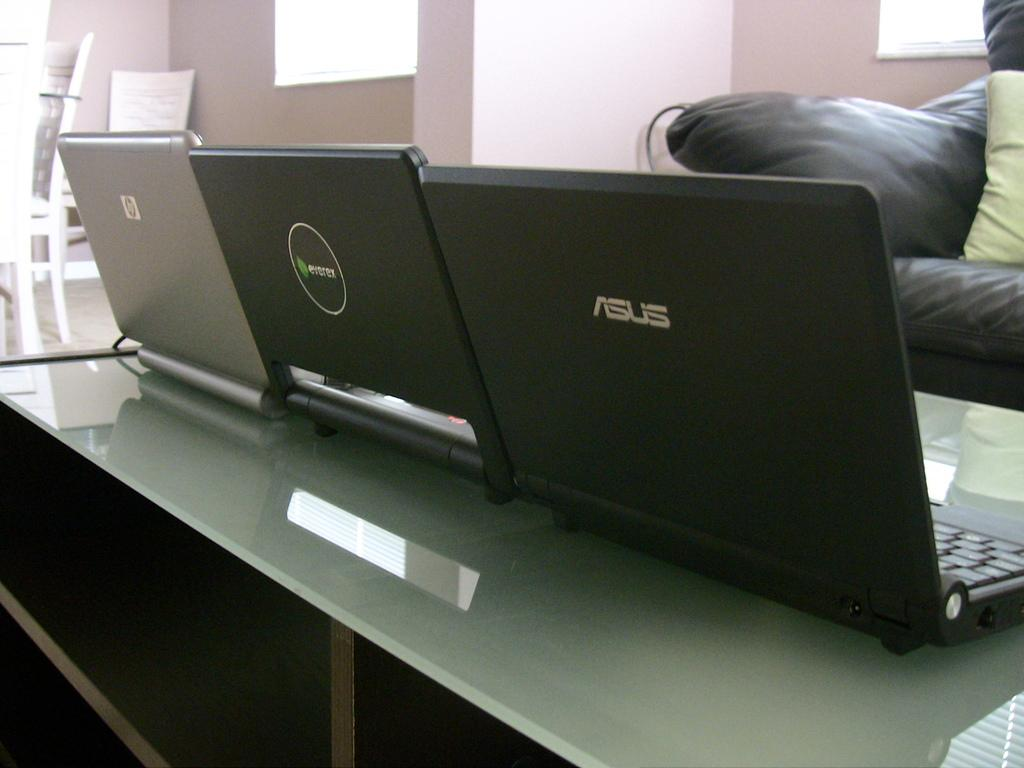Laptop: (415, 164, 1023, 655), (187, 145, 513, 503), (54, 131, 289, 420)
